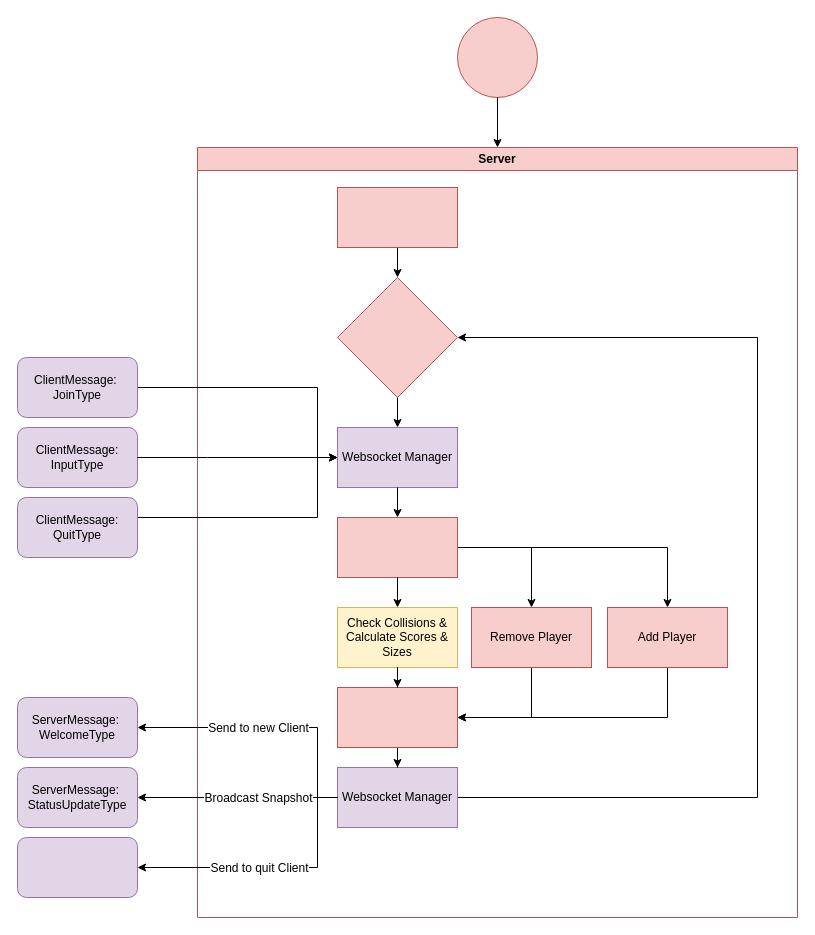
Image size: 815x935. Some labels were removed from this diagram. The centre of each missing label's shape, as x and y in pixels:
"Init GameState & HTTP Service" belongs at [397,217].
"ServerMessage: ByeType" belongs at [77,867].
"Start Server" belongs at [497,57].
"Tick Timer 50ms" belongs at [397,337].
"Update Global GameState" belongs at [397,717].
"Update Positions & Generate Dots" belongs at [397,547].
